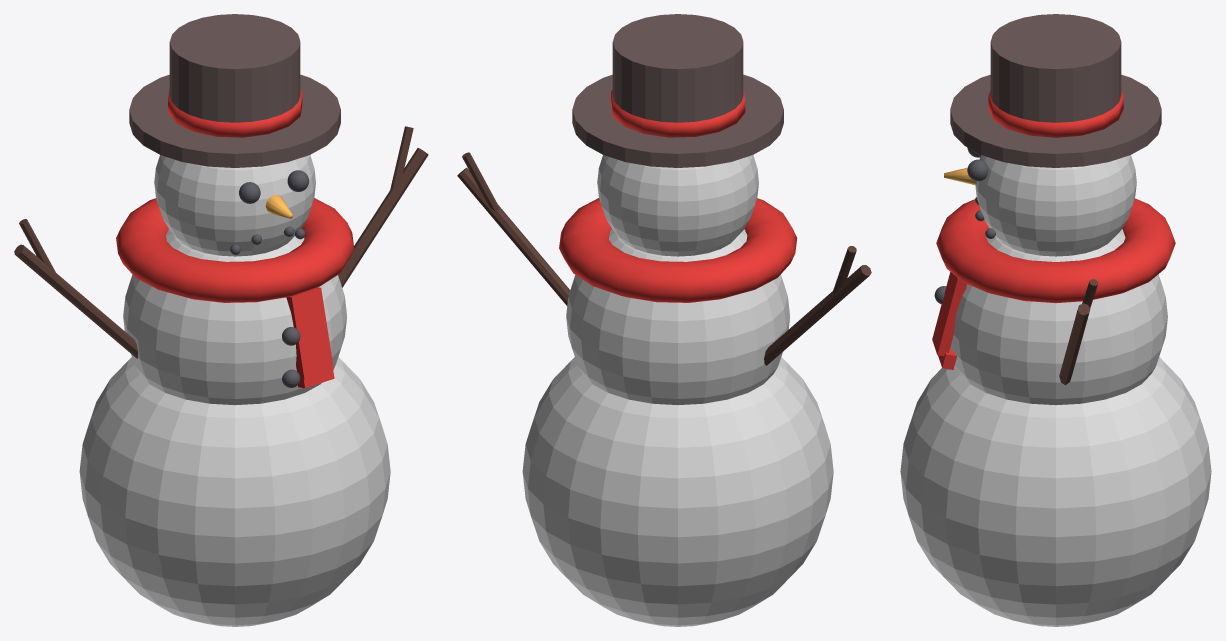
Rendered from snowman.glb.
3 renders of one model, left to right at view 1: azimuth 30°, elevation 25°; view 2: azimuth 150°, elevation 25°; view 3: azimuth 270°, elevation 25°, orthographic.
Parts seen in each view (by area): view 1: BodyBottom, BodyMiddle, HatTop, SmScarf, Head, HatBrim, SmScarfTail, SmHatBand, SmArmL, SmArmR, SmArmR2; view 2: BodyBottom, BodyMiddle, Head, HatTop, SmScarf, HatBrim, SmHatBand, SmArmR, SmArmL, SmArmR2; view 3: BodyBottom, BodyMiddle, HatTop, Head, SmScarf, HatBrim, SmHatBand, SmScarfTail, SmArmR.
Boxes of the visible parts, box(x1,y1,x2,y2) form: BodyBottom: box(79, 357, 390, 626); BodyMiddle: box(123, 229, 346, 405); HatTop: box(169, 14, 300, 122); SmScarf: box(116, 198, 354, 302); Head: box(154, 155, 315, 256); HatBrim: box(129, 74, 340, 167); SmScarfTail: box(286, 287, 333, 379); SmHatBand: box(168, 89, 302, 137); SmArmL: box(14, 244, 137, 358); SmArmR: box(338, 148, 428, 287); SmArmR2: box(389, 126, 413, 191); BodyBottom: box(522, 357, 833, 626); BodyMiddle: box(566, 229, 789, 405); Head: box(597, 155, 758, 256); HatTop: box(612, 14, 743, 122); SmScarf: box(559, 198, 797, 302); HatBrim: box(572, 74, 783, 167); SmHatBand: box(611, 88, 745, 137); SmArmR: box(457, 167, 570, 305); SmArmL: box(764, 265, 871, 365); SmArmR2: box(462, 152, 498, 211); BodyBottom: box(900, 357, 1211, 626); BodyMiddle: box(950, 229, 1167, 405); HatTop: box(990, 14, 1121, 122); Head: box(975, 155, 1136, 256); SmScarf: box(936, 198, 1175, 303); HatBrim: box(950, 74, 1161, 167); SmHatBand: box(988, 91, 1123, 137); SmScarfTail: box(932, 272, 967, 356); SmArmR: box(1059, 303, 1090, 385).
Size of the model in its own units: 3.06 by 4.05 by 2.
